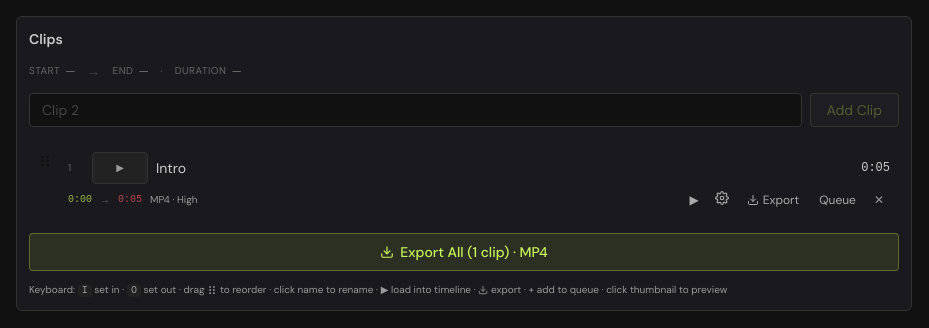
Test case: ClipList — ARIA attributes › sets aria-expanded on settings toggle
Click the button named "per-clip export settings" at (722,198), box [709, 189, 735, 207]
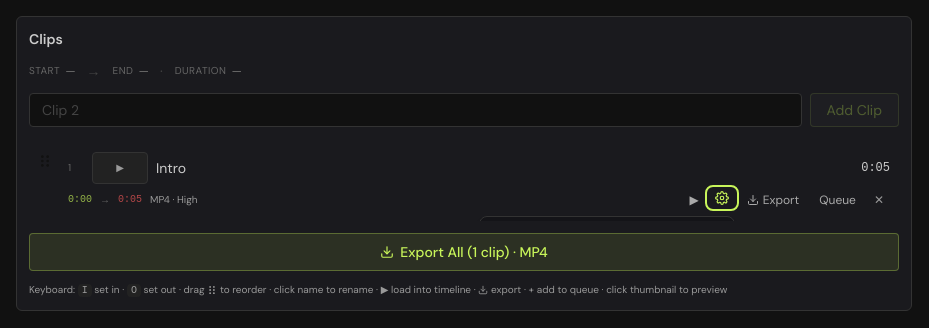
Now the button named "per-clip export settings" is expanded, box [709, 189, 735, 207]
